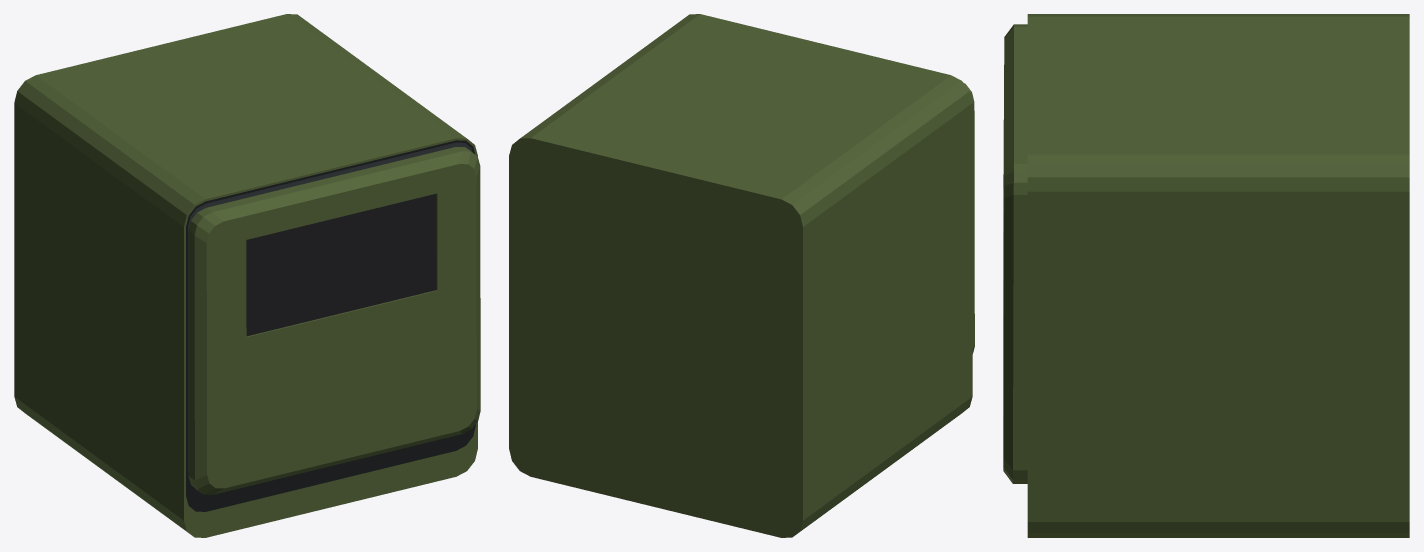
The model's file is Tabledishwasher_01_B.gltf.
3 views of the same model, side by side, from view 1: azimuth 30°, elevation 25°; view 2: azimuth 150°, elevation 25°; view 3: azimuth 270°, elevation 25° (orthographic). The views are drawn at different scales.
Parts seen in each view (by area): view 1: Tabledishwasher_01_B, DoorTabledishwasher_01_B; view 2: Tabledishwasher_01_B, DoorTabledishwasher_01_B; view 3: Tabledishwasher_01_B, DoorTabledishwasher_01_B.
Part boxes in pixels (left/top/right/bottom): Tabledishwasher_01_B: left=14, top=14, right=477, bottom=537; DoorTabledishwasher_01_B: left=188, top=147, right=480, bottom=494; Tabledishwasher_01_B: left=509, top=14, right=972, bottom=537; DoorTabledishwasher_01_B: left=964, top=83, right=974, bottom=353; Tabledishwasher_01_B: left=1027, top=14, right=1409, bottom=537; DoorTabledishwasher_01_B: left=1003, top=24, right=1027, bottom=483.
Size of the model in its own units: 0.5998 by 0.6603 by 0.6381.
Materials: 1 (1 with a texture image).
